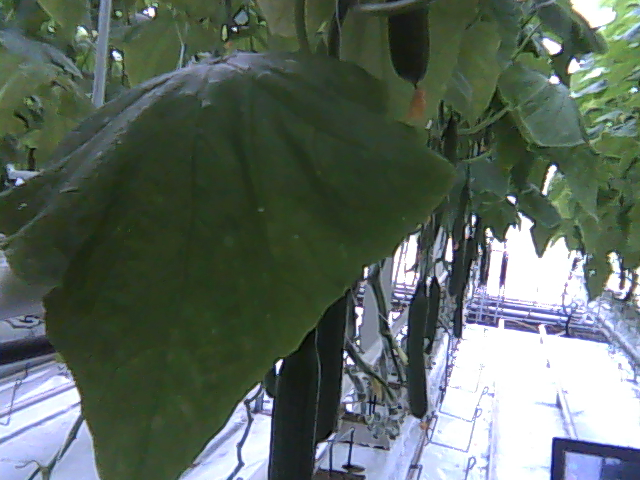concombre: (268, 327, 323, 480), (312, 286, 351, 453), (384, 1, 434, 125)
